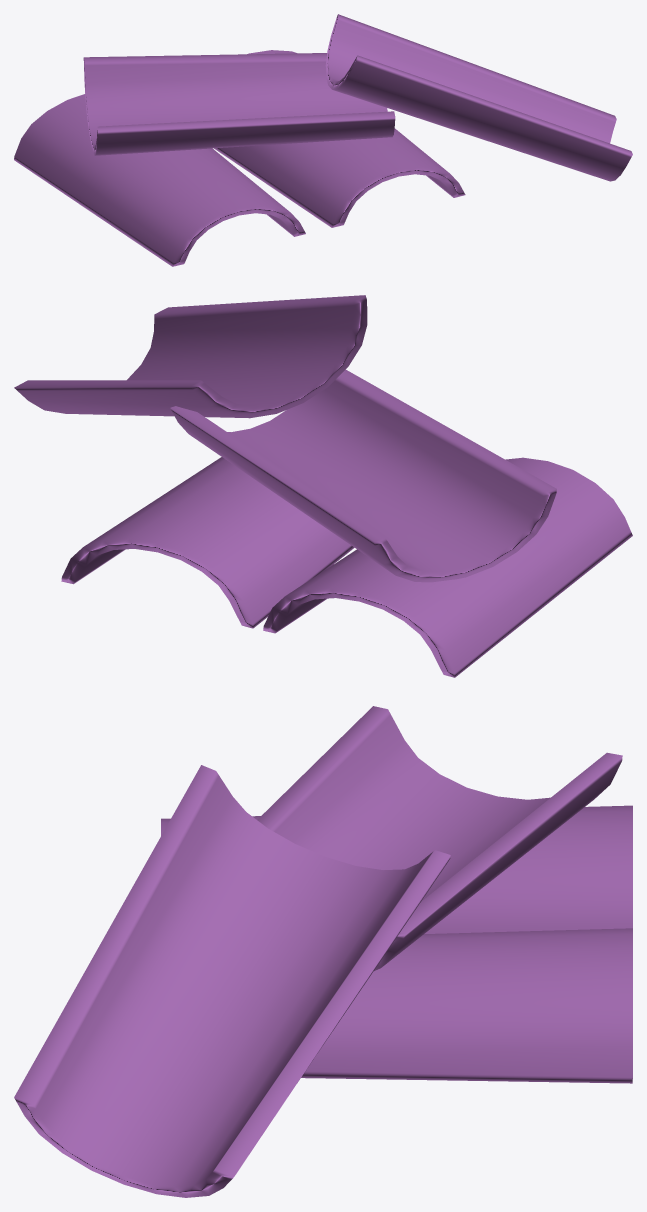
Rendered from Roof_Tile_Pile_01_Lod0.fbx.
The picture shows the model from 3 angles, top to bottom: view 1: azimuth 30°, elevation 25°; view 2: azimuth 150°, elevation 25°; view 3: azimuth 270°, elevation 25°; orthographic projection. The views are drawn at different scales.
Parts seen in each view (by area): view 1: Roof_Tile_Pile_01_Lod0; view 2: Roof_Tile_Pile_01_Lod0; view 3: Roof_Tile_Pile_01_Lod0.
Boxes of the visible parts, bbox=[...] form: Roof_Tile_Pile_01_Lod0: bbox=[14, 14, 632, 266]; Roof_Tile_Pile_01_Lod0: bbox=[14, 295, 632, 677]; Roof_Tile_Pile_01_Lod0: bbox=[14, 706, 632, 1197].
Size of the model in its own units: 127 by 40.62 by 91.03.
